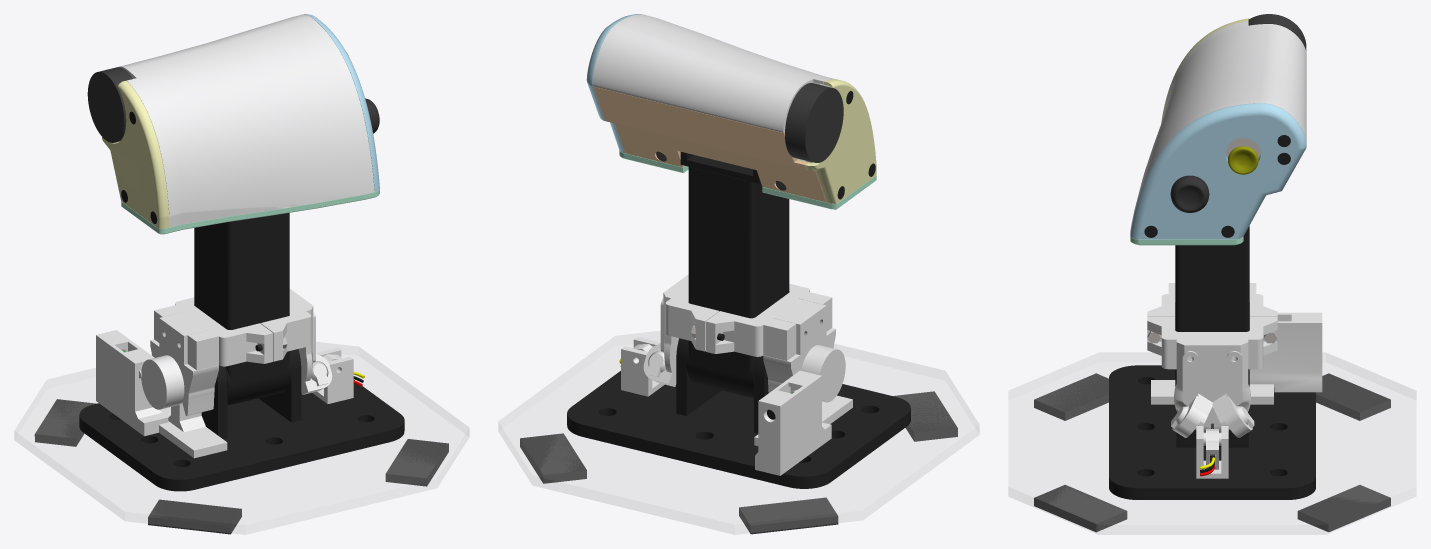
The model's file is custom_hotas_throttle_exterior.glb.
3 views of the same model, side by side, from view 1: azimuth 30°, elevation 25°; view 2: azimuth 150°, elevation 25°; view 3: azimuth 270°, elevation 25° (orthographic). The views are drawn at different scales.
Visible parts, largest first — view 1: Material-White_ABS (×8), Material-Black_Metal (×4), Material-Transparent_Plexi, Material-Black_Plastic (×2), Material-ABS_Pinky, Material-ABS_Bottom, Material-ABS_Thumb; view 2: Material-Black_Metal (×5), Material-White_ABS (×7), Material-Transparent_Plexi, Material-Black_Plastic (×2), Material-ABS_Front, Material-ABS_Pinky, Material-ABS_Bottom, Material-ABS_Thumb; view 3: Material-Transparent_Plexi, Material-White_ABS (×9), Material-Black_Metal (×4), Material-ABS_Thumb, Material-Black_Plastic (×2), Material-Rubber, Material-ABS_Bottom, Material-Yellow.
Part boxes in pixels (x1,y1,x2,y2): Material-White_ABS (×8): [96, 14, 374, 458]; Material-Black_Metal (×4): [79, 213, 404, 491]; Material-Transparent_Plexi: [14, 342, 469, 534]; Material-Black_Plastic (×2): [34, 67, 448, 534]; Material-ABS_Pinky: [101, 80, 169, 228]; Material-ABS_Bottom: [121, 189, 379, 234]; Material-ABS_Thumb: [304, 14, 379, 191]; Material-Black_Metal (×5): [567, 155, 910, 488]; Material-White_ABS (×7): [592, 14, 852, 475]; Material-Transparent_Plexi: [498, 331, 979, 534]; Material-Black_Plastic (×2): [520, 83, 957, 534]; Material-ABS_Front: [593, 86, 825, 202]; Material-ABS_Pinky: [805, 79, 876, 203]; Material-ABS_Bottom: [619, 150, 876, 209]; Material-ABS_Thumb: [586, 14, 642, 153]; Material-Transparent_Plexi: [1008, 352, 1416, 534]; Material-White_ABS (×9): [1130, 21, 1322, 478]; Material-Black_Metal (×4): [1109, 135, 1315, 499]; Material-ABS_Thumb: [1130, 103, 1306, 239]; Material-Black_Plastic (×2): [1034, 14, 1390, 532]; Material-Rubber: [1170, 175, 1209, 212]; Material-ABS_Bottom: [1130, 236, 1243, 245]; Material-Yellow: [1228, 146, 1258, 174].
Size of the model in its own units: 0.4729 by 0.5112 by 0.4729.
